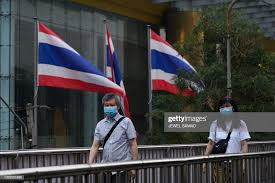mask: (102, 90, 121, 117), (218, 96, 236, 119)
